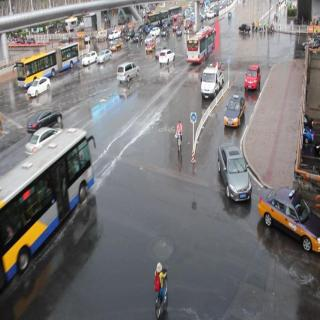BigCar: (0, 136, 94, 270), (22, 46, 80, 84), (194, 22, 216, 67)
Car: (219, 137, 249, 204), (200, 62, 221, 100), (244, 56, 264, 95), (228, 86, 244, 134), (118, 58, 138, 88), (161, 51, 176, 70)
